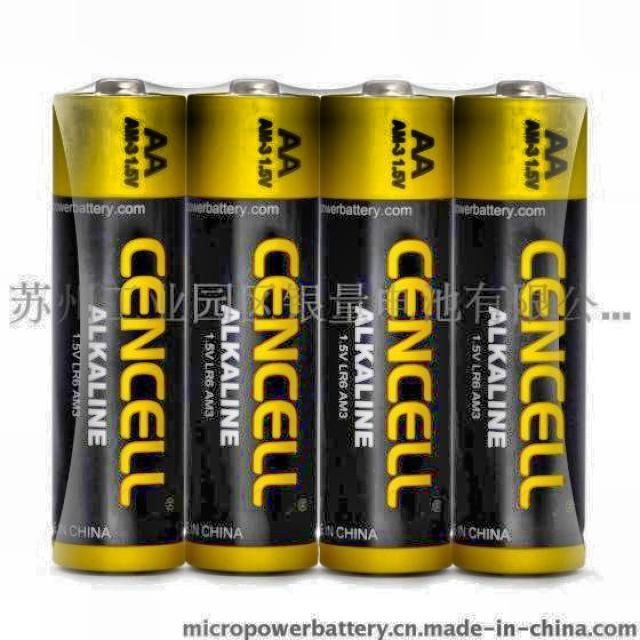Non-Valuable Waste - Batteries: (186, 80, 319, 572), (320, 81, 452, 573), (454, 81, 586, 573), (54, 80, 186, 571)
